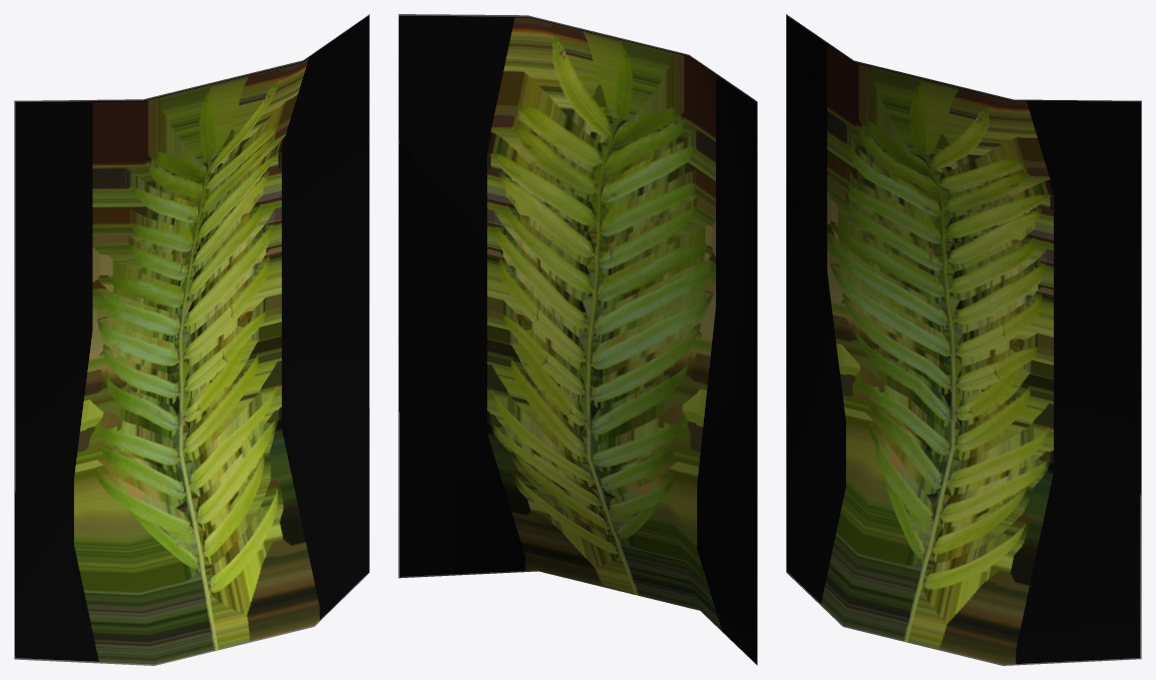
Rendered from dry_leaf_2.fbx.
3 renders of one model, left to right at view 1: azimuth 30°, elevation 25°; view 2: azimuth 150°, elevation 25°; view 3: azimuth 330°, elevation 25°, orthographic.
Parts seen in each view (by area): view 1: pPlane2; view 2: pPlane2; view 3: pPlane2.
Part boxes in pixels (x1=…): pPlane2: x1=14, y1=14, x2=369, y2=665; pPlane2: x1=398, y1=14, x2=757, y2=665; pPlane2: x1=786, y1=14, x2=1141, y2=665.
Size of the model in its own units: 4.71 by 7.07 by 0.9558.
